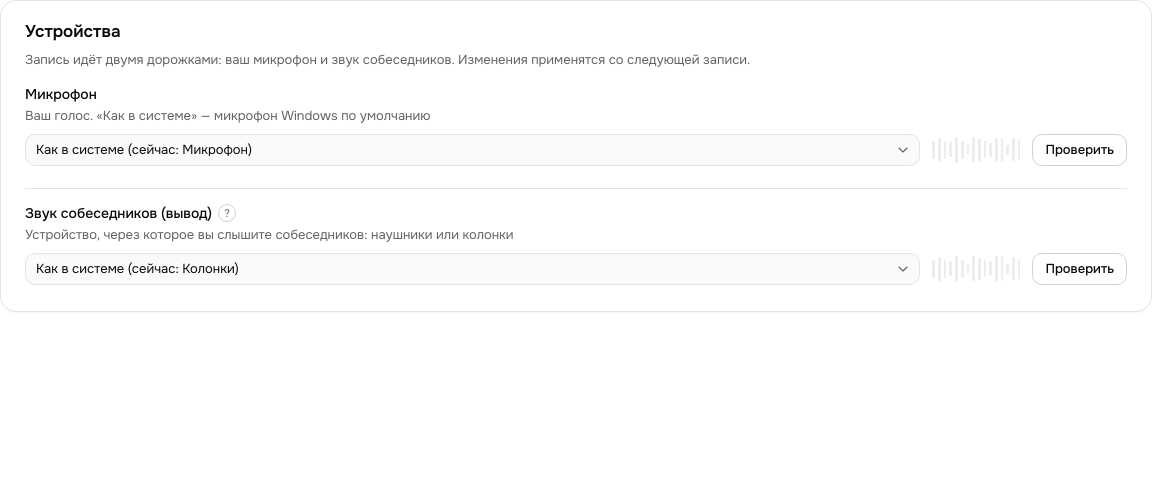
Test: «?» у вывода объясняет запись через loopback
Click the button named "Как записывается звук собеседников": click(227, 213) [218, 204, 236, 222]
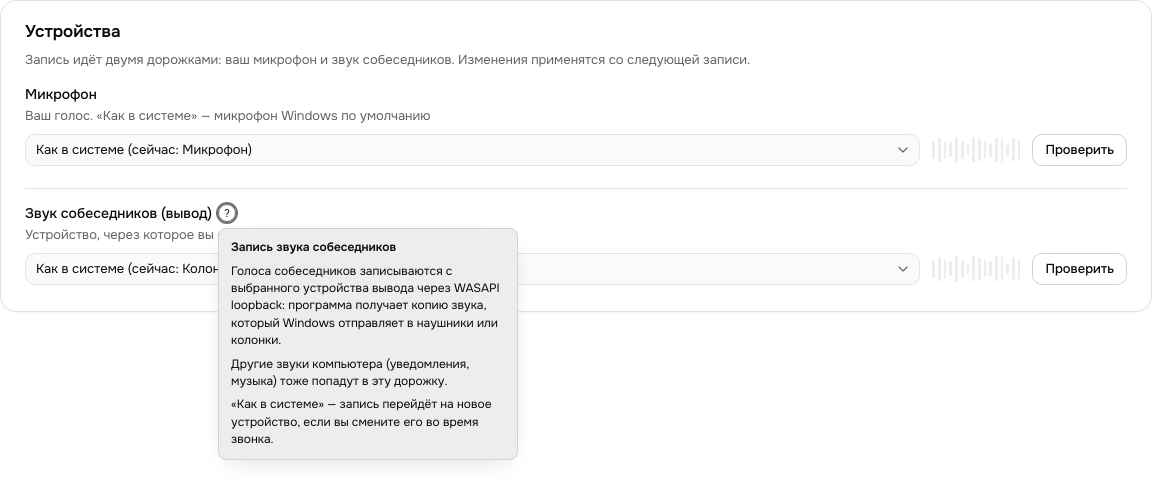
Now the tooltip shows "loopback", box [231, 263, 500, 348]
